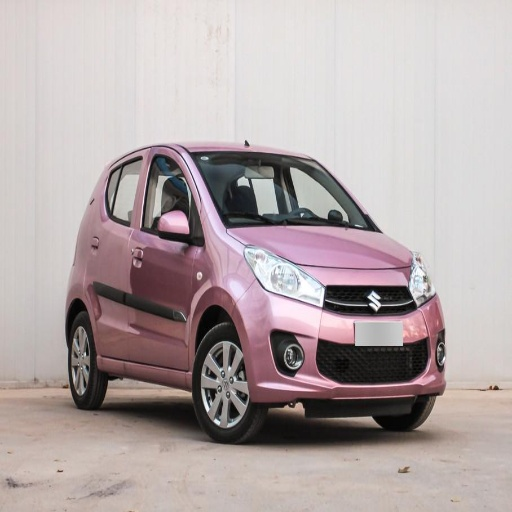front_bumper: (241, 266, 445, 412)
front_right_door: (128, 147, 199, 371)
front_right_light: (245, 249, 321, 305)
